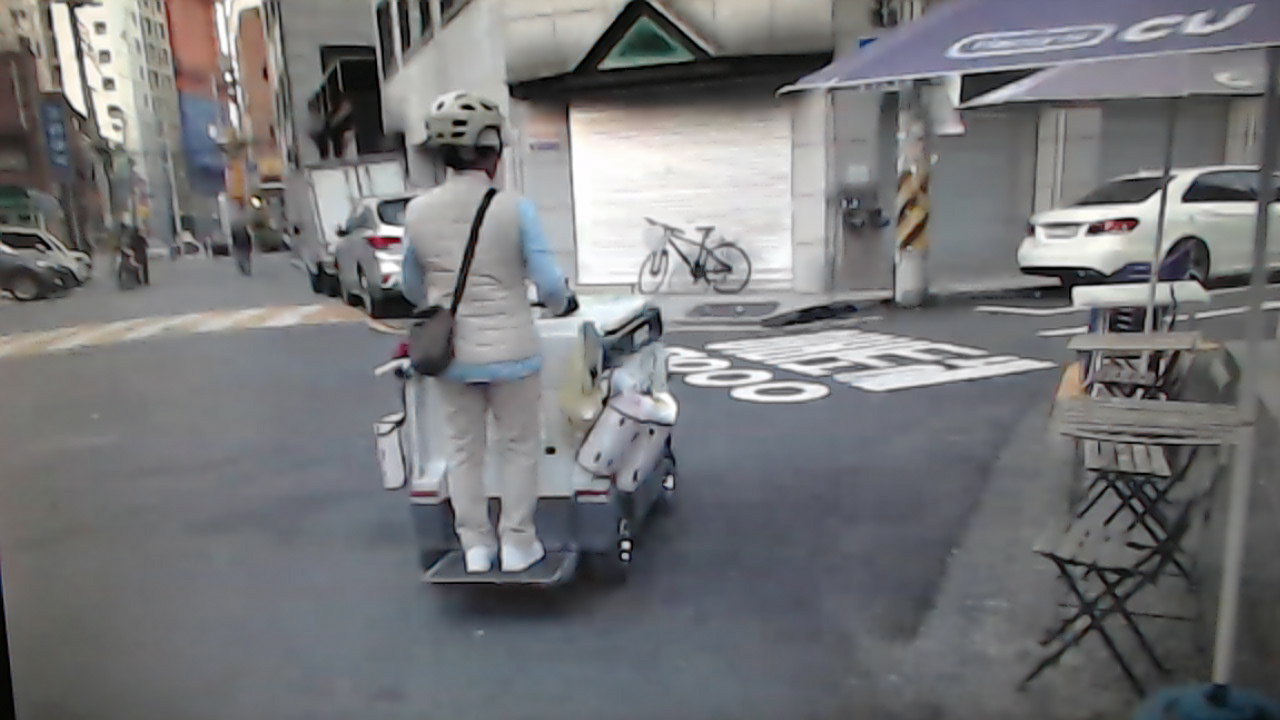Yakurut: (362, 65, 633, 630)
